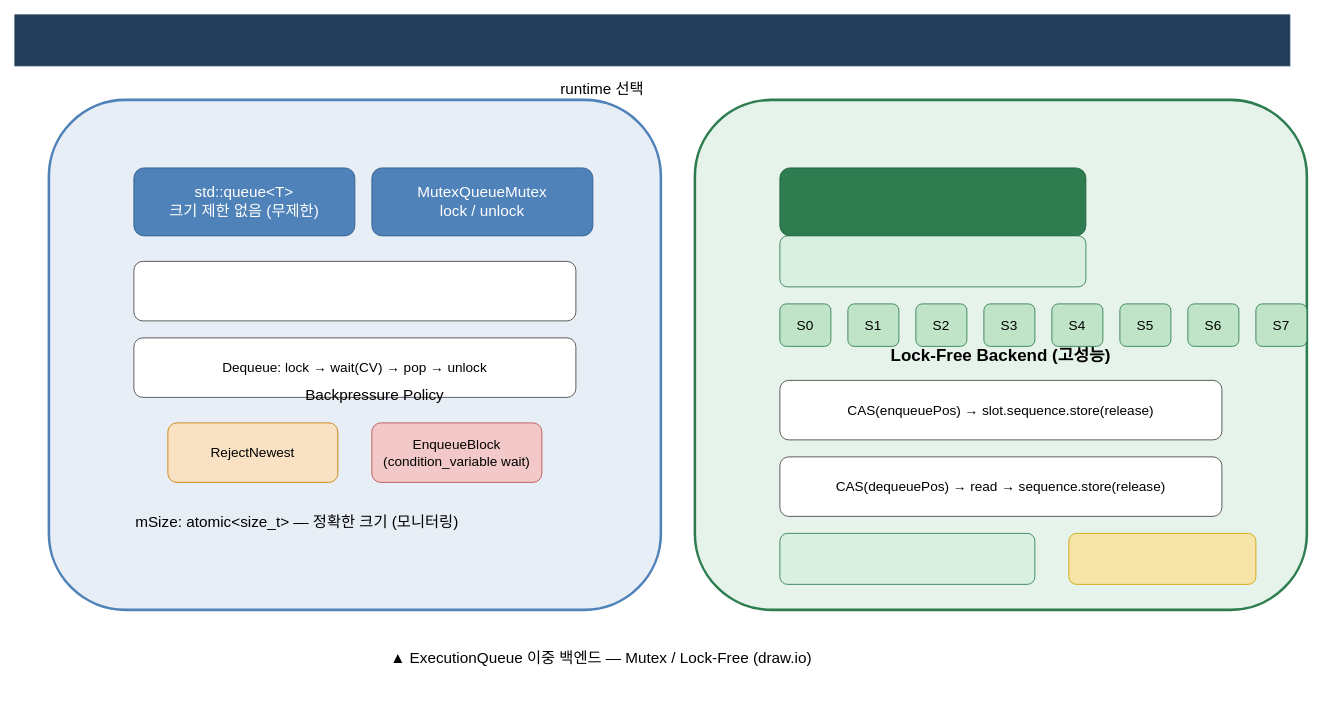
The diagram is 1323 pixels wide and 701 high, and some of its shapes have lost their labels. Each missing label, with the centre of its shape:
"alignas(64) — false sharing 방지" belongs at (x=907, y=558).
"BoundedLockFreeQueue<T>" belongs at (x=932, y=201).
"Enqueue: lock → push → unlock → notify" belongs at (x=354, y=291).
"ExecutionQueue<T> — Dual Backend" belongs at (x=652, y=40).
"mSize — monitoring only" belongs at (x=1162, y=558).
"링 버퍼 · 크기: 2의 거듭제곱 (기본 1024)" belongs at (x=932, y=261).
